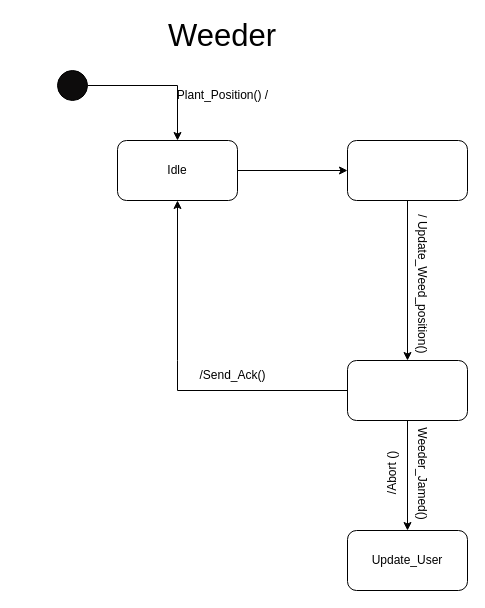
Image size: 485x608. Some labels were removed from this diagram. The centre of each missing label's shape, as x and y in pixels:
"Eliminate_Weed" goes at point 407,390.
"Select_Weed" goes at point 407,170.
